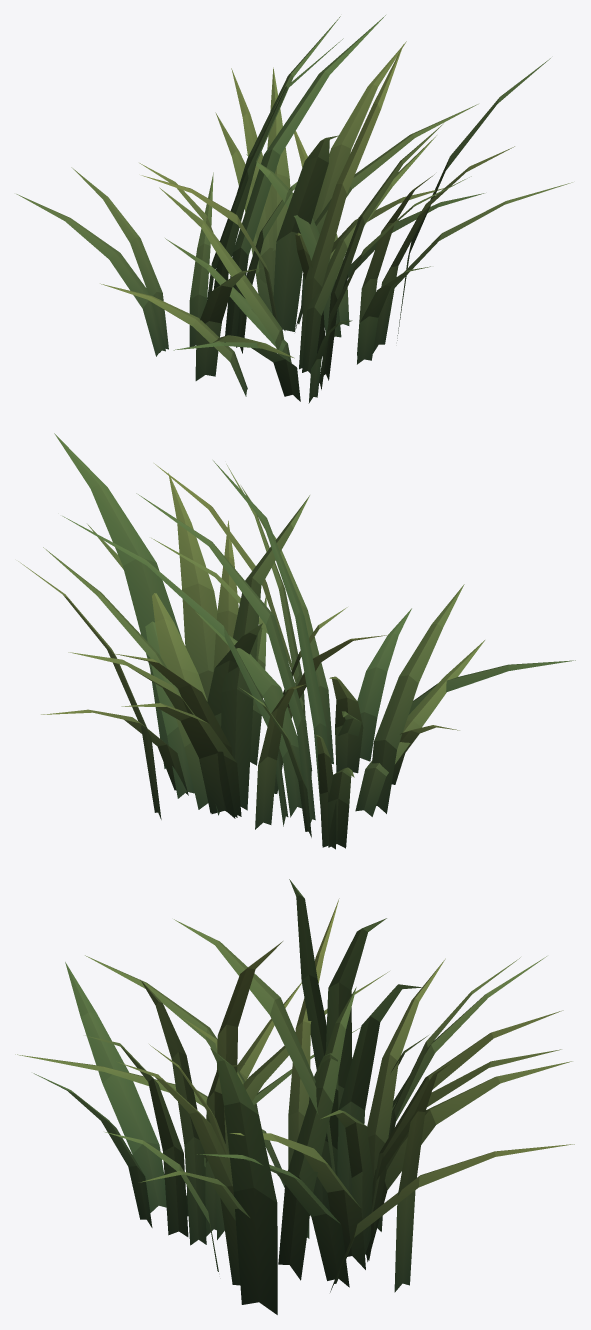
Rendered from sedge.glb.
3 renders of one model, top to bottom at view 1: azimuth 30°, elevation 25°; view 2: azimuth 150°, elevation 25°; view 3: azimuth 270°, elevation 25°, orthographic. The views are drawn at different scales.
Visible parts, largest first — view 1: sedge.641; view 2: sedge.641; view 3: sedge.641.
Boxes of the visible parts, box(x1,y1,x2,y2) form: sedge.641: box(16, 15, 572, 403); sedge.641: box(18, 433, 575, 849); sedge.641: box(15, 879, 574, 1314).
Size of the model in its own units: 0.7974 by 0.5366 by 0.6734.
